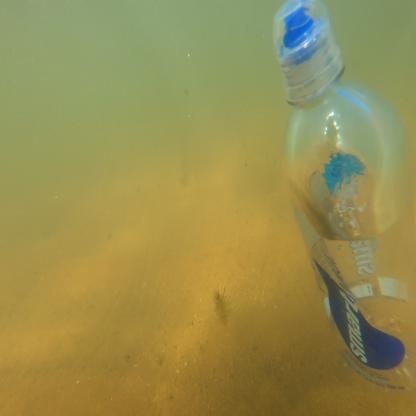Rác: (271, 3, 415, 394)
